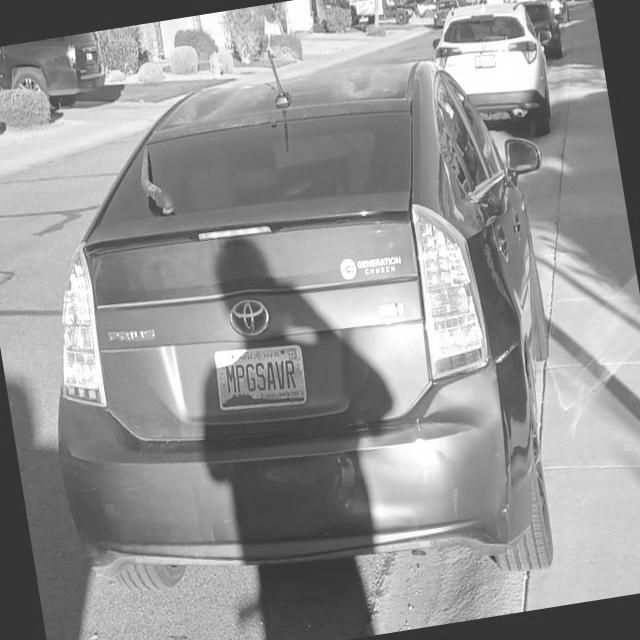LicensePlate: (213, 343, 308, 412)
